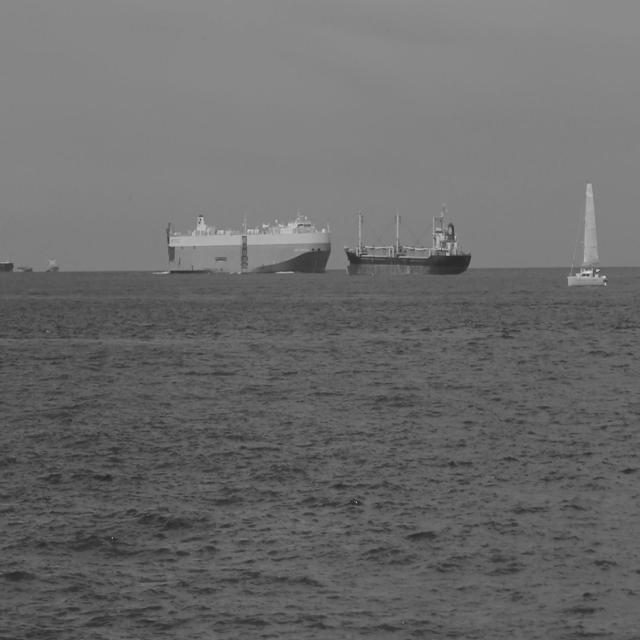ship: (164, 210, 332, 276), (342, 200, 474, 278), (565, 178, 608, 288), (45, 252, 59, 274), (0, 256, 15, 275), (15, 262, 34, 274)
